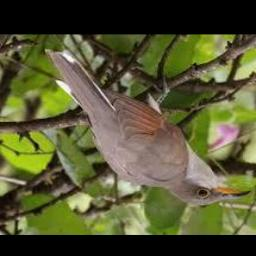Cuckoo: (45, 49, 251, 206)
